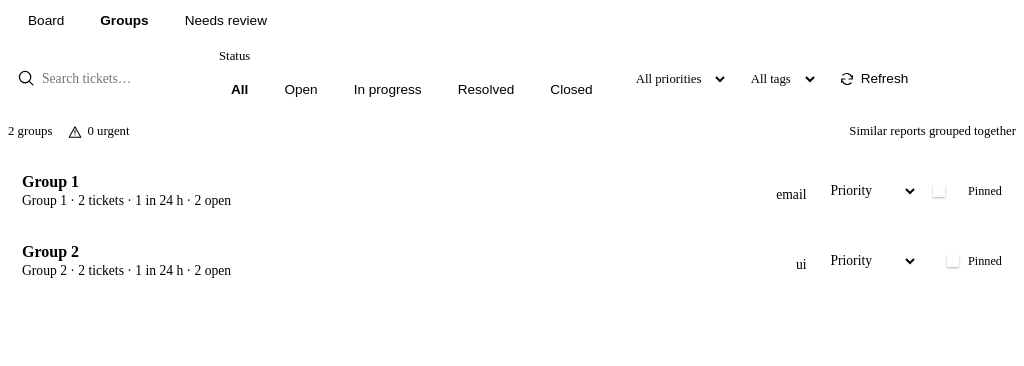
TicketsPanel › keeps the expanded group's tickets when an older expansion finishes
This screenshot has width=1024, height=366.
Click the button with class "expand" that starts with "Group 1" at (51, 182), box [22, 173, 752, 209]
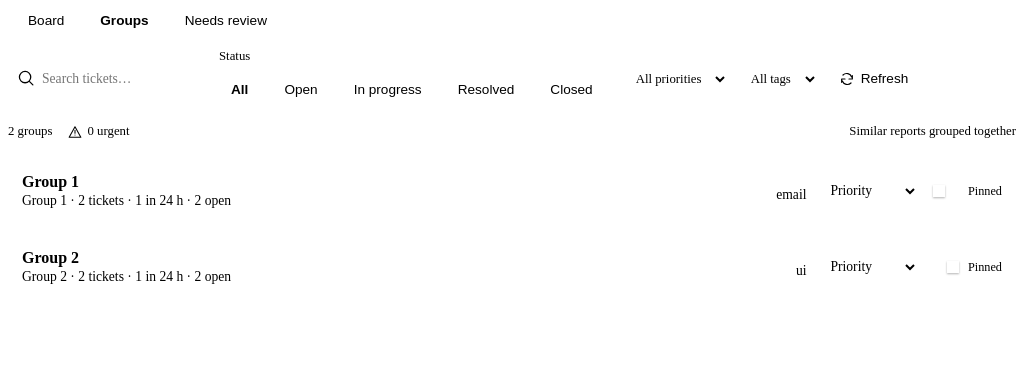
Click the button with class "expand" that starts with "Group 2" at (51, 258), box [22, 249, 772, 285]
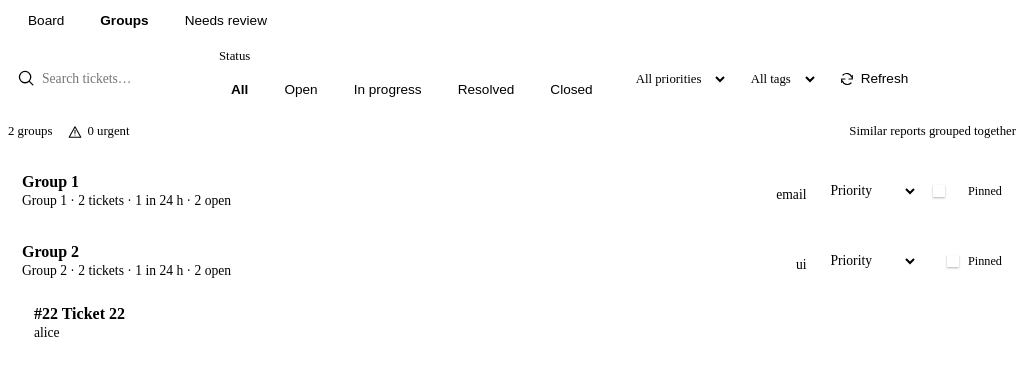
Now the list with class "group-tickets" shows "Ticket 22", box [22, 297, 1016, 349]
